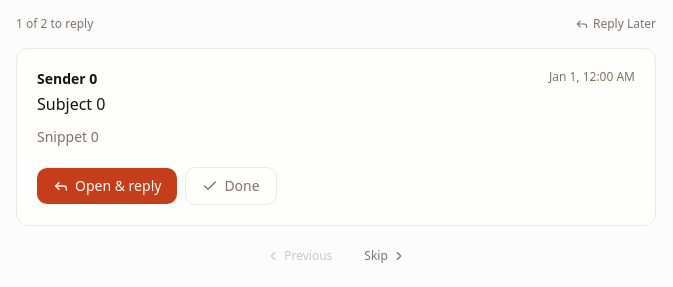
ReplyLaterFocus › disables Previous on the first item and allows Skip
Expected: the button "Previous" is disabled, [254,242,344,270]
Click the button "Skip" at (385, 256), box [352,242,418,270]
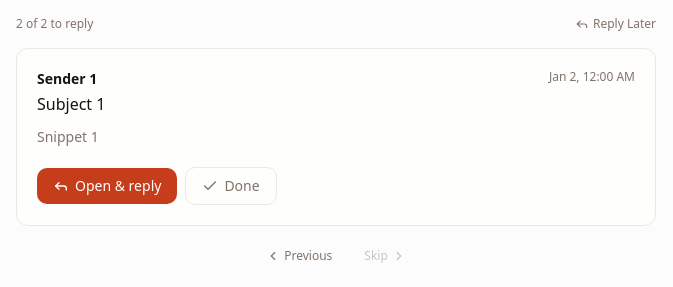
Expected: the text "2 of 2 to reply" is shown, [16,16,93,32]
Expected: the heading "Subject 1" is shown, [37,93,105,115]
